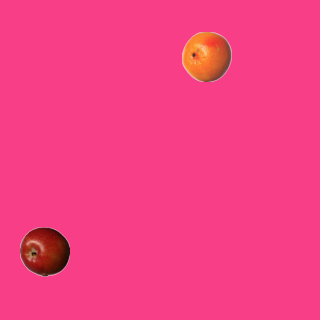Apple Braeburn: (19, 226, 69, 276)
Grapefruit Pink: (181, 31, 231, 81)
